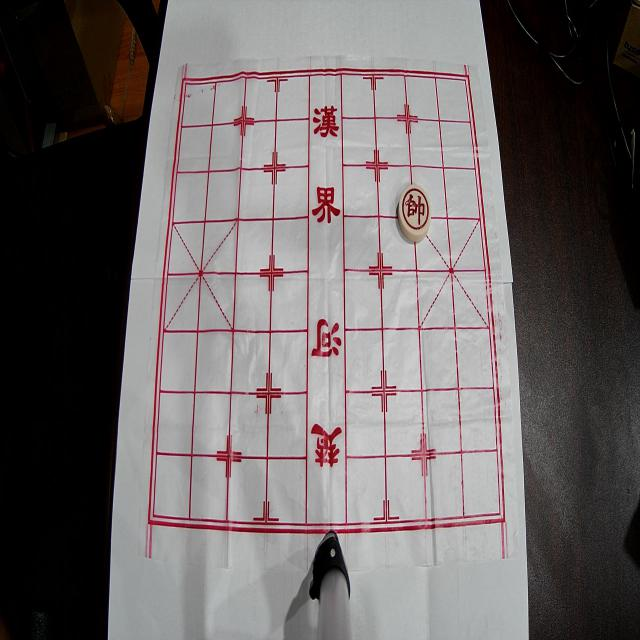red-general: (398, 184, 431, 242)
